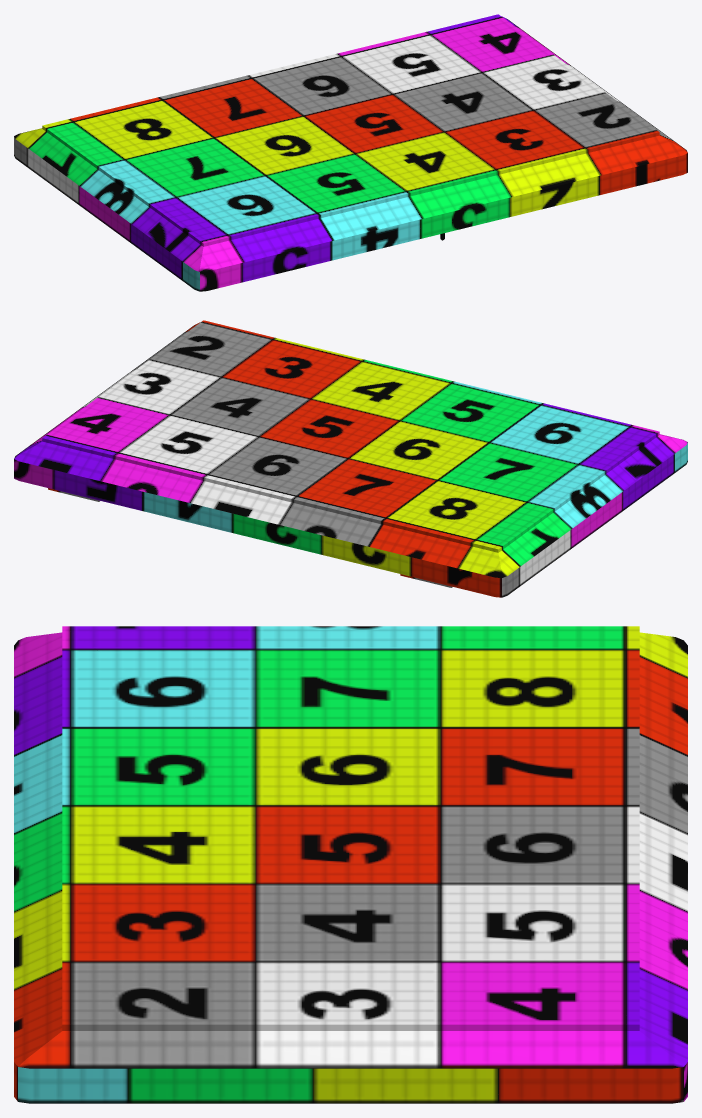
The model's file is Chest_Lid.fbx.
3 renders of one model, top to bottom at view 1: azimuth 30°, elevation 25°; view 2: azimuth 150°, elevation 25°; view 3: azimuth 270°, elevation 25°, orthographic. The views are drawn at different scales.
Parts seen in each view (by area): view 1: Box010; view 2: Box010; view 3: Box010.
Boxes of the visible parts, x1,y1,x2,y2 form: Box010: (14, 14, 687, 291); Box010: (14, 320, 687, 597); Box010: (14, 626, 687, 1103).
Size of the model in its own units: 73.23 by 48.5 by 6.99.
1 material, 1 textured.
